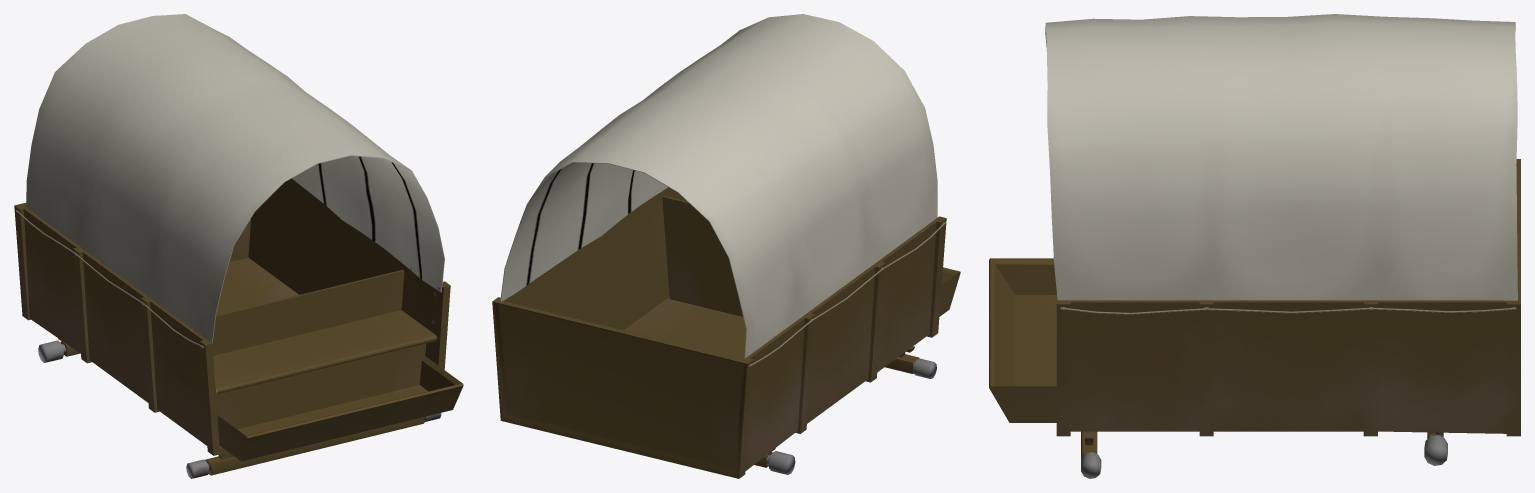
Rendered from mdl_wagon_body.fbx.
3 views of the same model, side by side, from view 1: azimuth 30°, elevation 25°; view 2: azimuth 150°, elevation 25°; view 3: azimuth 270°, elevation 25° (orthographic). The views are drawn at different scales.
Parts seen in each view (by area): view 1: SM_Body; view 2: SM_Body; view 3: SM_Body.
Boxes of the visible parts, <box> form: SM_Body: <box>14,14,463,478</box>; SM_Body: <box>492,14,960,478</box>; SM_Body: <box>989,14,1520,478</box>.
Size of the model in its own units: 2.1 by 2.4 by 3.09.
Materials: 3 (3 with a texture image).
